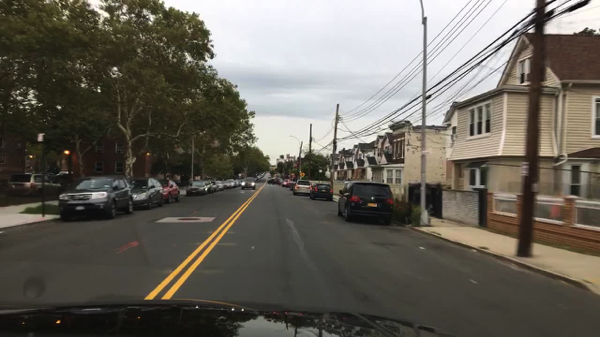car: (58, 176, 134, 219), (337, 181, 393, 226), (8, 174, 61, 199), (130, 178, 163, 211), (158, 179, 181, 205), (308, 183, 333, 200), (292, 181, 311, 195), (186, 182, 207, 194), (241, 177, 255, 190), (203, 180, 215, 194), (268, 178, 282, 185), (222, 180, 232, 188), (282, 180, 291, 188), (214, 181, 220, 191), (289, 183, 296, 190), (235, 180, 242, 187), (219, 183, 224, 191), (232, 181, 237, 188)
traffic sign: (299, 172, 305, 179)
